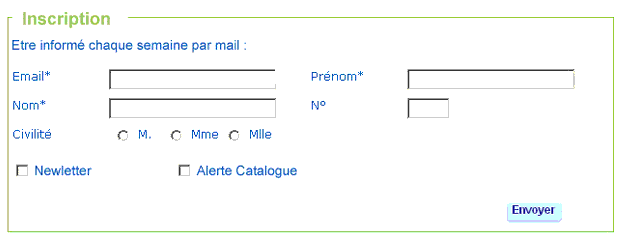_form_: (202, 1, 618, 236), (1, 1, 416, 236)
checkbox: (14, 163, 31, 179), (178, 163, 192, 178)
checkbox_with_label: (174, 161, 298, 179), (11, 160, 92, 180)
field: (108, 97, 279, 119), (108, 68, 278, 90), (406, 68, 576, 90), (406, 97, 451, 119)
field_with_label: (11, 96, 282, 121), (309, 67, 578, 92), (12, 67, 281, 91), (311, 96, 455, 120)
radio: (505, 201, 563, 224), (112, 129, 130, 141), (169, 129, 182, 141), (228, 128, 240, 141)
radio_with_label: (166, 125, 219, 144), (224, 125, 271, 145), (109, 126, 153, 142)
